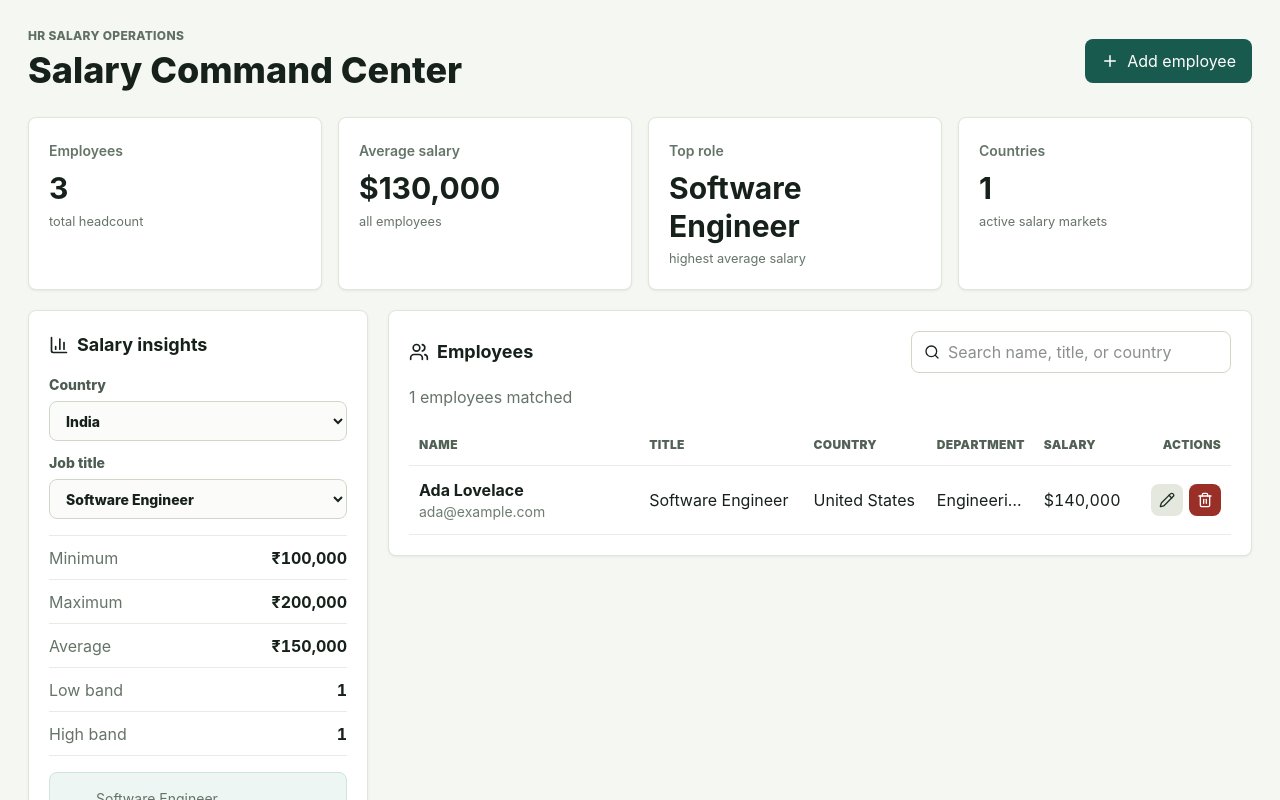
Scenario: SalaryCommandCenter › opens an employee form from the management UI
Click the button "Add employee". click: (1169, 60)
box: x1=1085 y1=38 x2=1252 y2=82
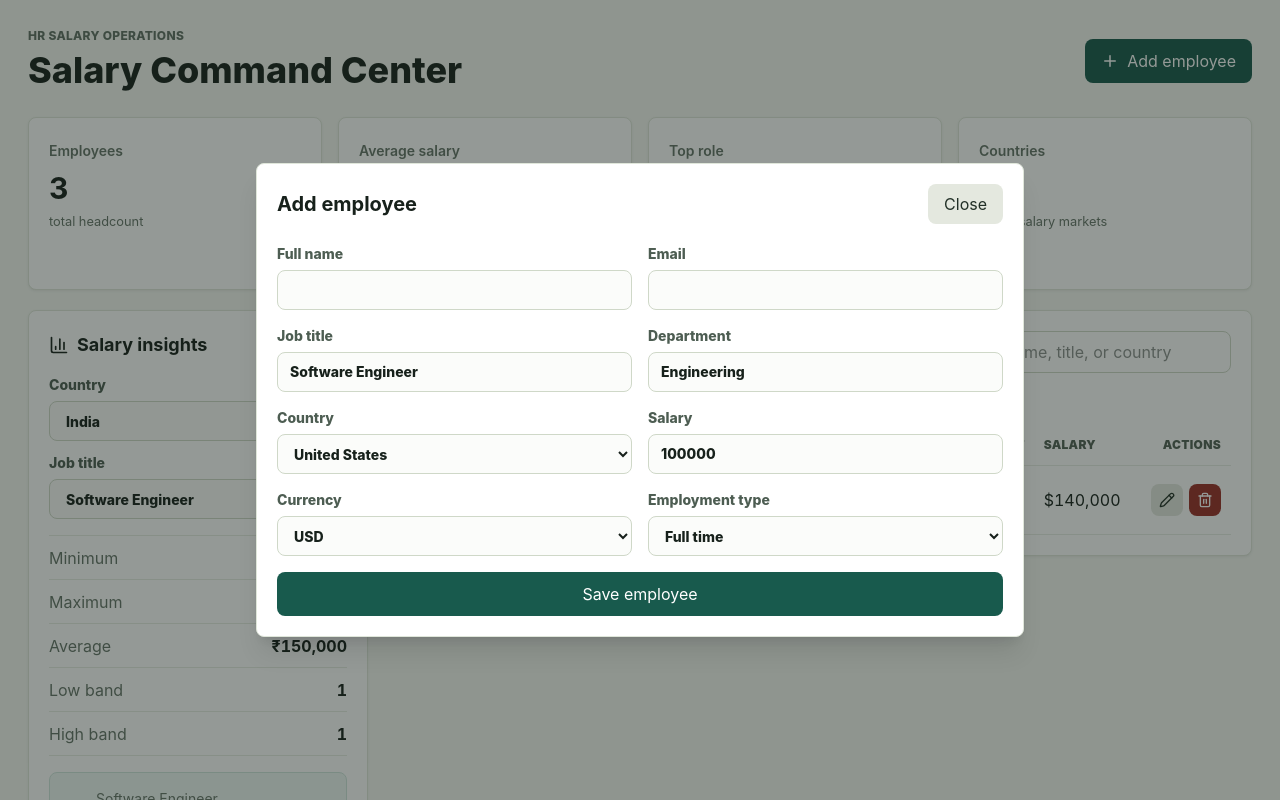
Expected: the dialog named "Employee form" is shown
Expected: the field labelled "Full name" is shown, x1=277 y1=270 x2=632 y2=310
Expected: the field labelled "Salary" is shown, x1=648 y1=434 x2=1003 y2=474
